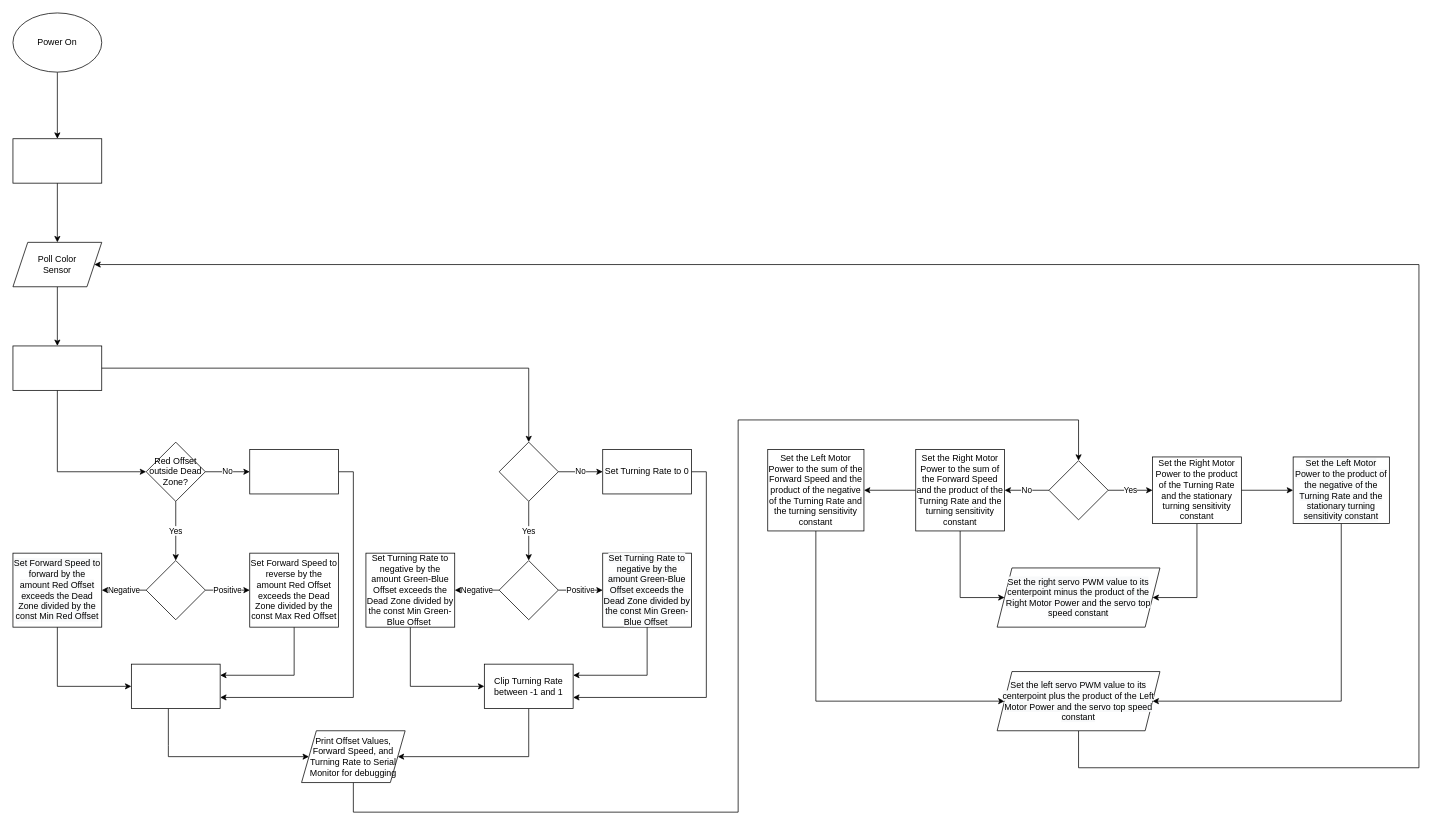
This 1438x831 diagram has some shape labels left out. Each missing label, with the centre of its shape:
"Calculate Color Offset Values" goes at point (57, 367).
"Clip Forward Speed between -1 and 1" goes at point (175, 686).
"Green-Blue offset outside Dead Zone?" goes at point (528, 471).
"Green-Blue Offset sign?" goes at point (528, 590).
"Initialize Sensor Initialize Servos Set Zero Point" goes at point (57, 160).
"Is Forward Speed 0?" goes at point (1078, 490).
"Red Offset Sign?" goes at point (175, 590).
"Set Forward Speed to 0" goes at point (294, 471).
